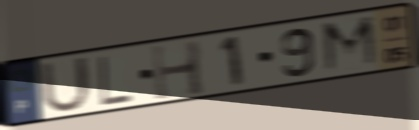1: (219, 33, 247, 90)
9: (280, 26, 316, 78)
H: (150, 37, 209, 104)
L: (96, 53, 135, 107)
M: (319, 13, 382, 77)
U: (38, 54, 94, 116)
